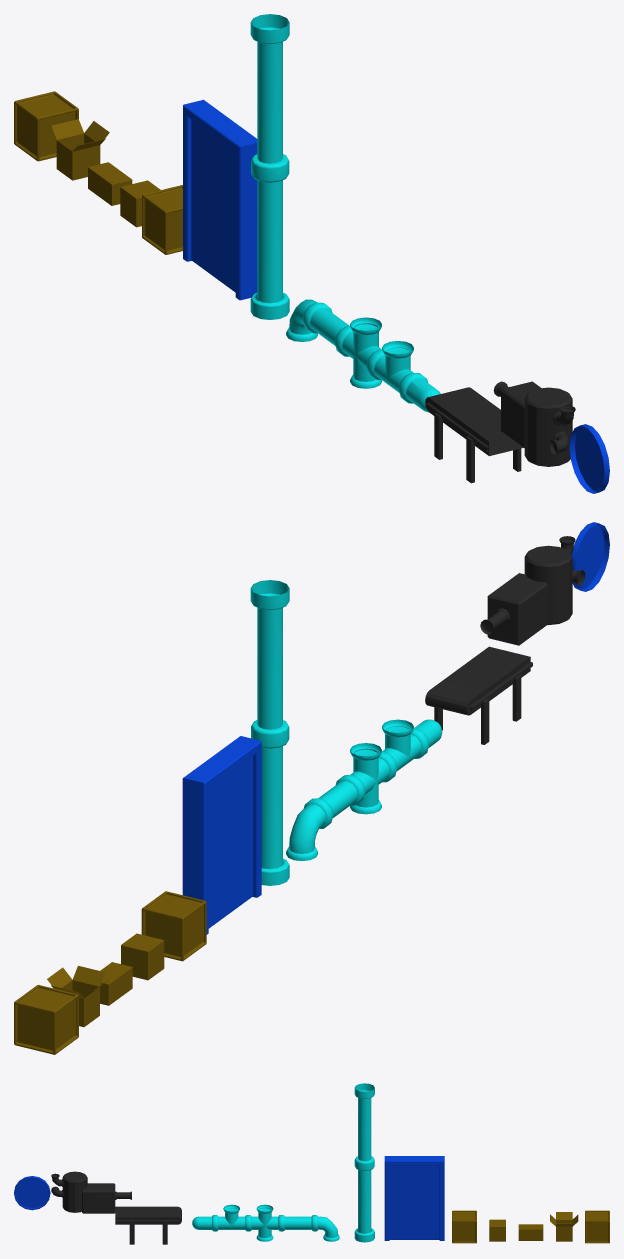
Rendered from Project Frontiers Objects Batch 1.fbx.
3 views of the same model, one above another, from view 1: azimuth 30°, elevation 25°; view 2: azimuth 150°, elevation 25°; view 3: azimuth 270°, elevation 25° (orthographic). The views are drawn at different scales.
Visible parts, largest first — view 1: Long_pipe, Door, Frame, Generator, Wooden_Crate_With_Label, Wooden_Crate, Conveyor, Clock, Pipe_cross, Conveyor_end, Pipe_T, Box (+5 smaller); view 2: Long_pipe, Generator, Door, Frame, Wooden_Crate_With_Label, Wooden_Crate, Conveyor_end, Conveyor, Pipe_cross, Clock, Pipe_bent, Cardboard_Box (+4 smaller); view 3: Door, Long_pipe, Generator, Frame, Clock, Wooden_Crate, Wooden_Crate_With_Label, Pipe_cross, Conveyor, Conveyor_end, Pipe_T, Pipe_middle (+5 smaller).
Boxes of the visible parts, x1,y1,x2,y2 form: Long_pipe: [250, 14, 289, 319]; Door: [191, 119, 235, 292]; Frame: [183, 99, 257, 300]; Generator: [493, 381, 575, 466]; Wooden_Crate_With_Label: [14, 91, 78, 161]; Wooden_Crate: [142, 185, 182, 254]; Conveyor: [454, 408, 523, 483]; Clock: [569, 424, 609, 493]; Pipe_cross: [336, 317, 381, 388]; Conveyor_end: [425, 387, 498, 459]; Pipe_T: [368, 341, 420, 397]; Box: [56, 133, 100, 180]; Long_pipe: [250, 580, 289, 885]; Generator: [480, 536, 585, 645]; Door: [208, 756, 252, 928]; Frame: [182, 736, 261, 934]; Wooden_Crate_With_Label: [14, 984, 78, 1054]; Wooden_Crate: [141, 891, 206, 961]; Conveyor_end: [425, 670, 500, 744]; Conveyor: [457, 646, 532, 721]; Pipe_cross: [344, 743, 395, 814]; Clock: [571, 522, 609, 591]; Pipe_bent: [286, 799, 331, 860]; Cardboard_Box: [121, 933, 164, 980]; Door: [389, 1165, 439, 1239]; Long_pipe: [354, 1083, 374, 1242]; Generator: [51, 1171, 131, 1213]; Frame: [384, 1156, 444, 1240]; Clock: [14, 1176, 50, 1210]; Wooden_Crate: [452, 1210, 476, 1243]; Wooden_Crate_With_Label: [585, 1210, 609, 1243]; Pipe_cross: [248, 1204, 281, 1241]; Conveyor: [115, 1206, 148, 1244]; Conveyor_end: [148, 1206, 181, 1244]; Pipe_T: [215, 1204, 248, 1231]; Pipe_middle: [281, 1215, 314, 1231].
Bounding box in the file's own units: 0.915 × 5 × 17.92.
